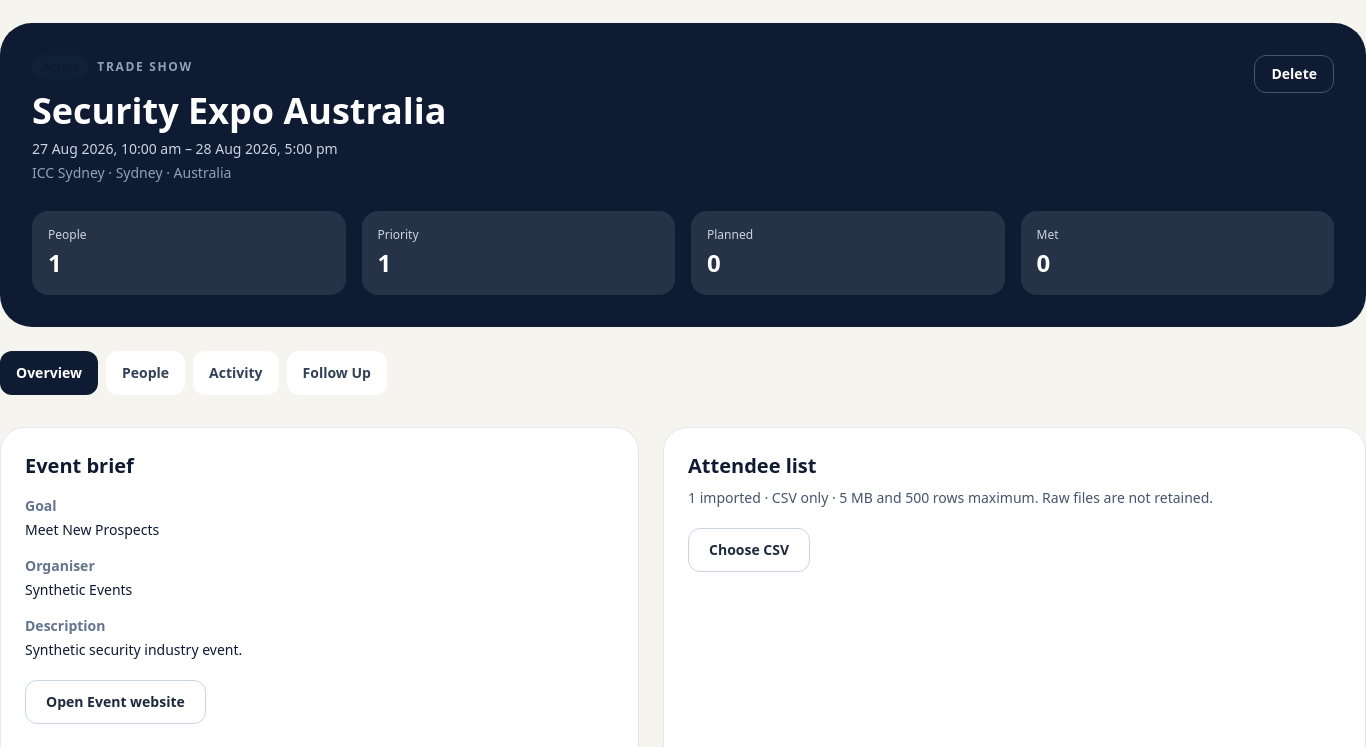
Scenario: Events workspace › keeps quick notes seller-reported when marking an attendee met
Expected: the heading "Security Expo Australia" is shown, [32,91,446,131]
Click the tab "People" at (146, 373), box [106,351,185,395]
(page scrolled)
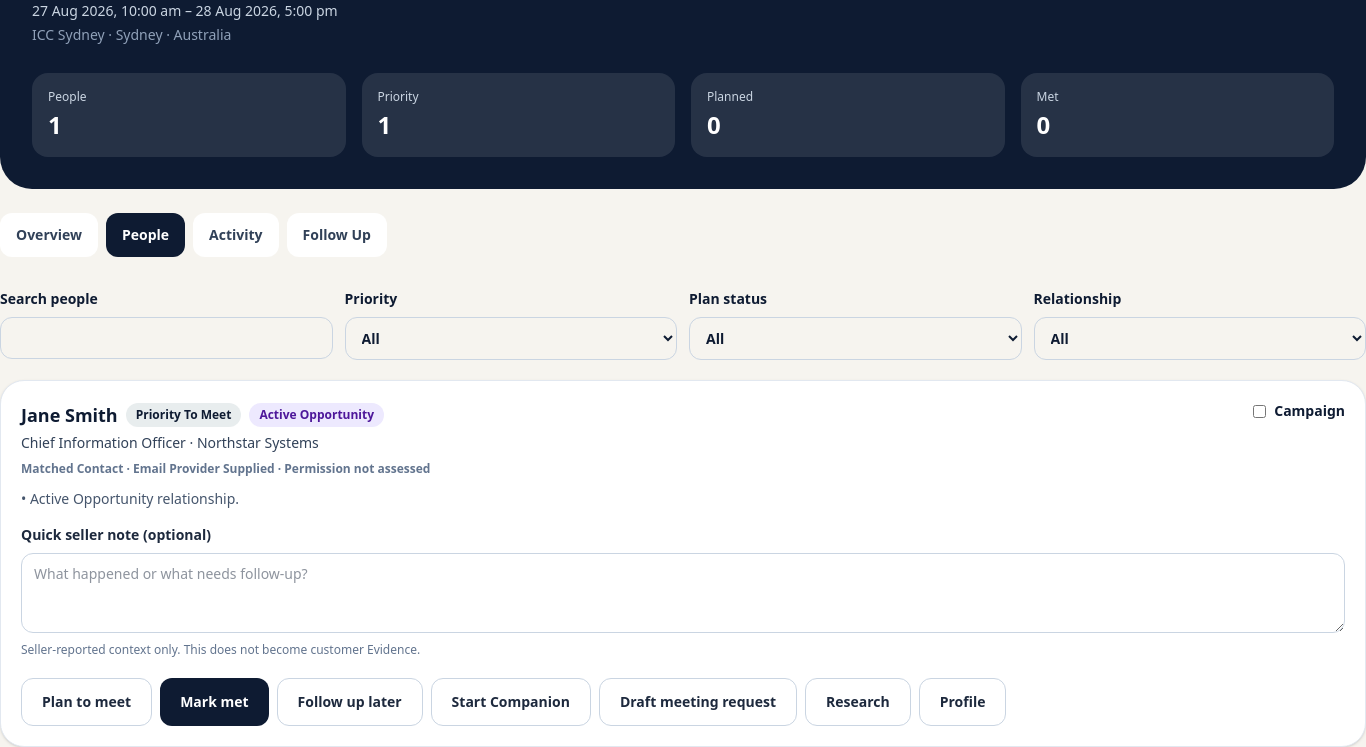
Type "Discussed a technical workshop next week." into the text box labelled "Quick seller note" at (683, 593), box [21,553,1345,633]
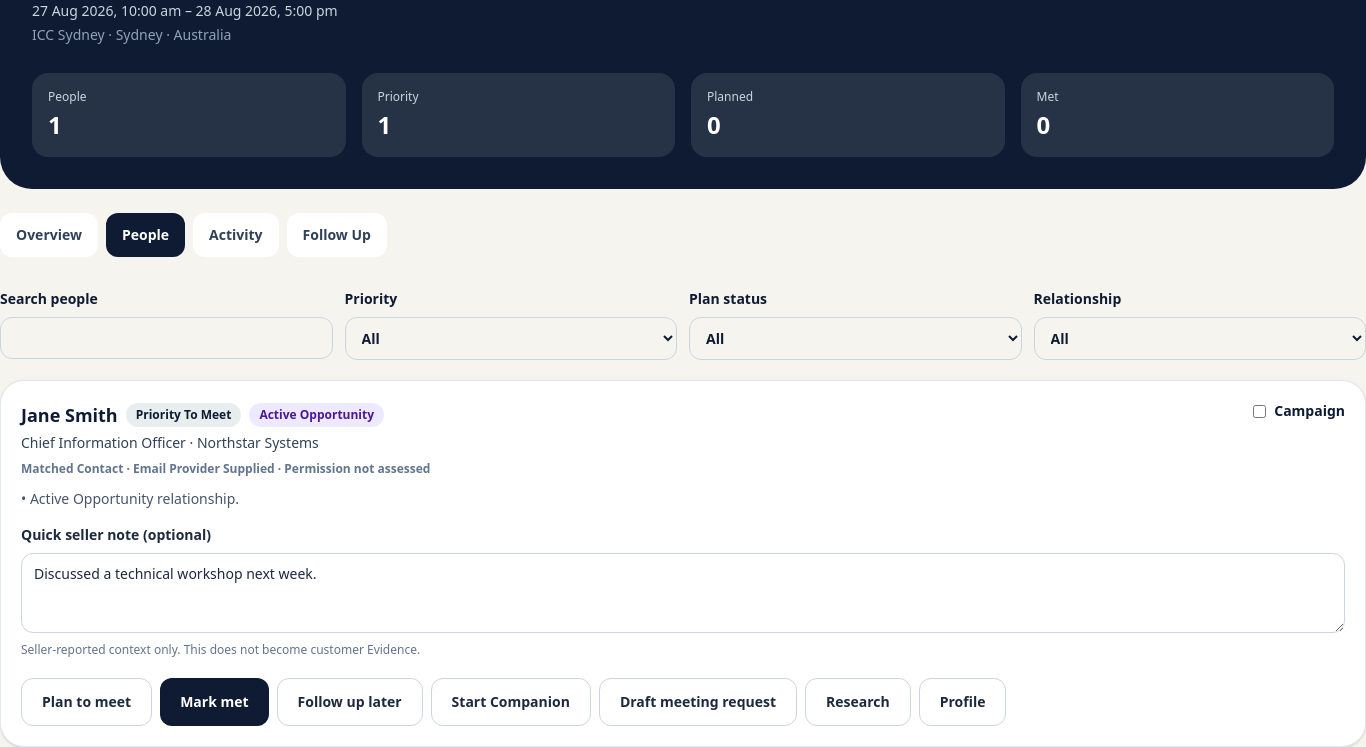
Click the button "Mark met" at (214, 702), box [160,678,268,726]
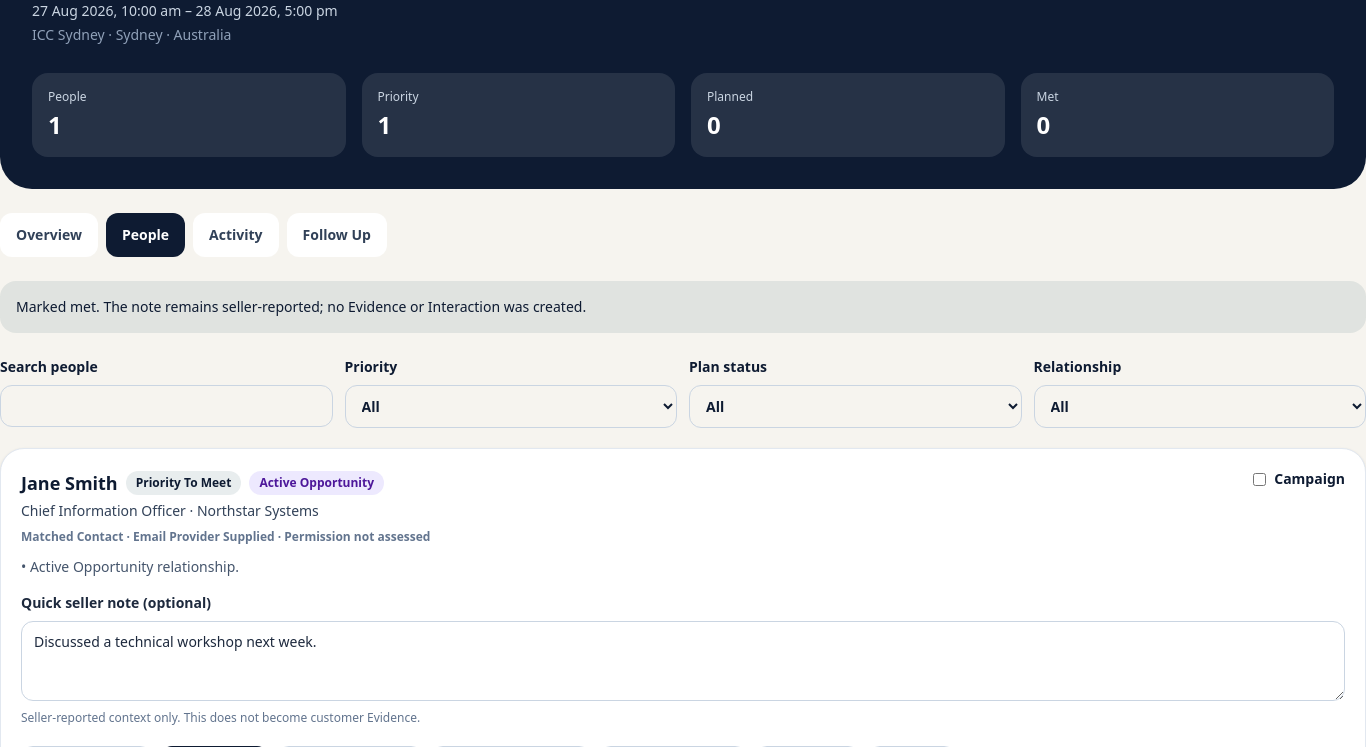
Now the text "no Evidence or Interaction was created" is shown, box [16,297,586,316]
